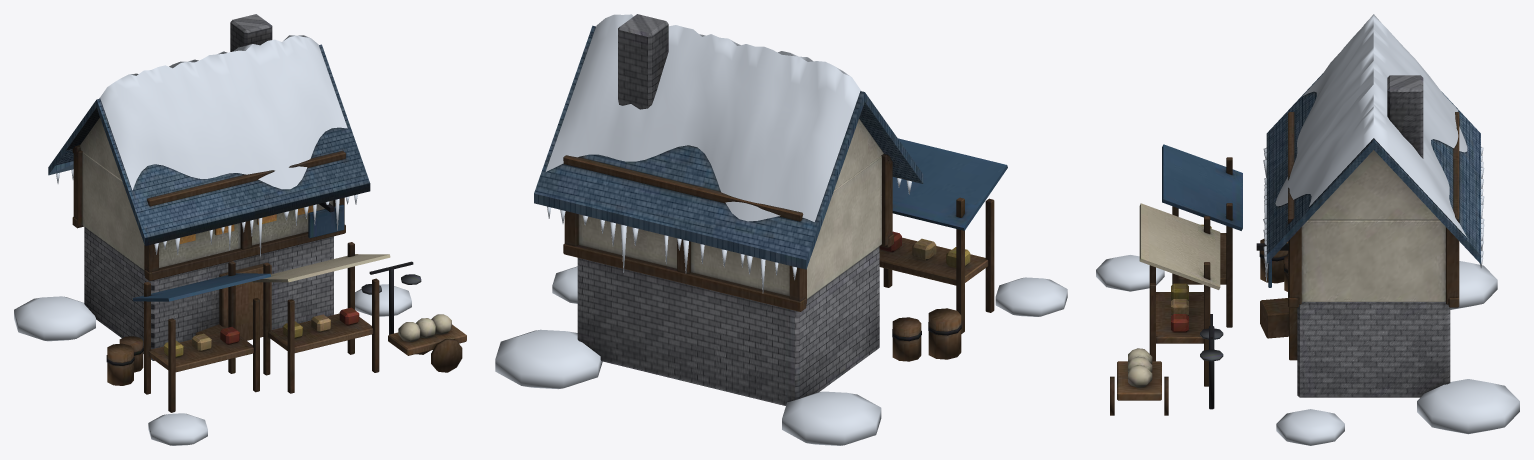
Rendered from wacht_market.glb.
The picture shows the model from 3 angles, left to right: view 1: azimuth 30°, elevation 25°; view 2: azimuth 150°, elevation 25°; view 3: azimuth 270°, elevation 25°; orthographic projection. The views are drawn at different scales.
Parts seen in each view (by area): view 1: wacht_market, Schnee; view 2: wacht_market, Schnee; view 3: wacht_market, Schnee.
Boxes of the visible parts, <box> form: wacht_market: <box>48,14,466,412</box>; Schnee: <box>14,35,411,445</box>; wacht_market: <box>534,14,1007,405</box>; Schnee: <box>495,14,1067,445</box>; wacht_market: <box>1110,73,1480,415</box>; Schnee: <box>1096,14,1519,445</box>.
Size of the model in its own units: 4.81 by 3.87 by 4.7.
2 materials, 1 textured.
